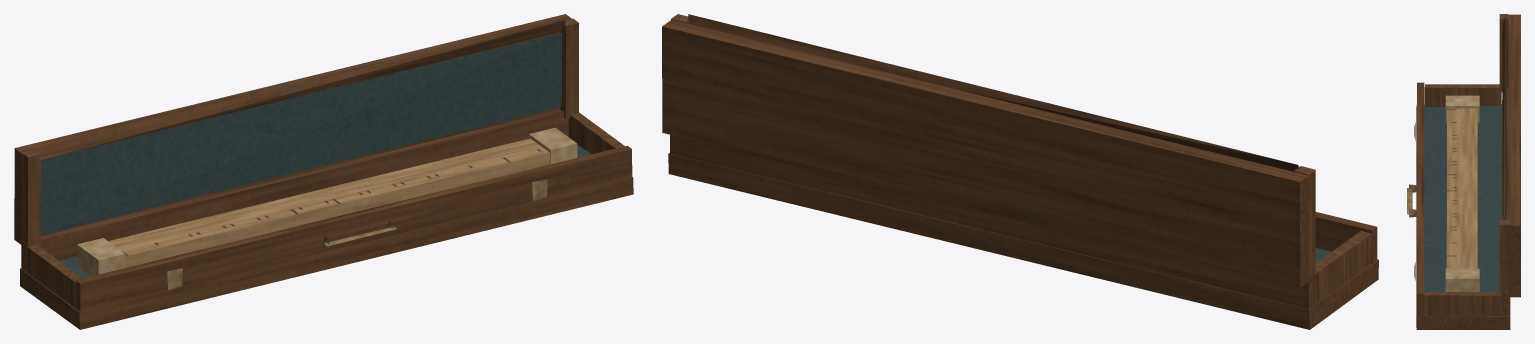
Rendered from EastGaugeCase_LOD2.fbx.
3 views of the same model, side by side, from view 1: azimuth 30°, elevation 25°; view 2: azimuth 150°, elevation 25°; view 3: azimuth 270°, elevation 25° (orthographic). The views are drawn at different scales.
Parts seen in each view (by area): view 1: EastGaugeCase.001; view 2: EastGaugeCase.001; view 3: EastGaugeCase.001.
Boxes of the visible parts, x1=… form: EastGaugeCase.001: x1=14, y1=14, x2=633, y2=329; EastGaugeCase.001: x1=662, y1=14, x2=1378, y2=329; EastGaugeCase.001: x1=1407, y1=14, x2=1520, y2=329.
Bounding box in the file's own units: 1.48 × 0.3521 × 0.3367.
1 material, 1 textured.
